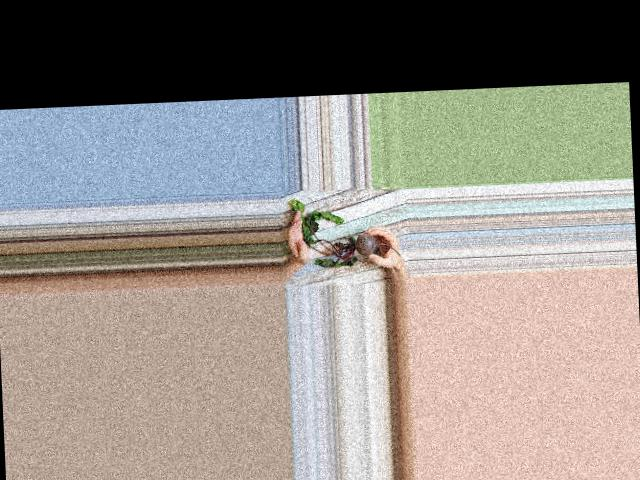beet: (289, 194, 401, 268)
